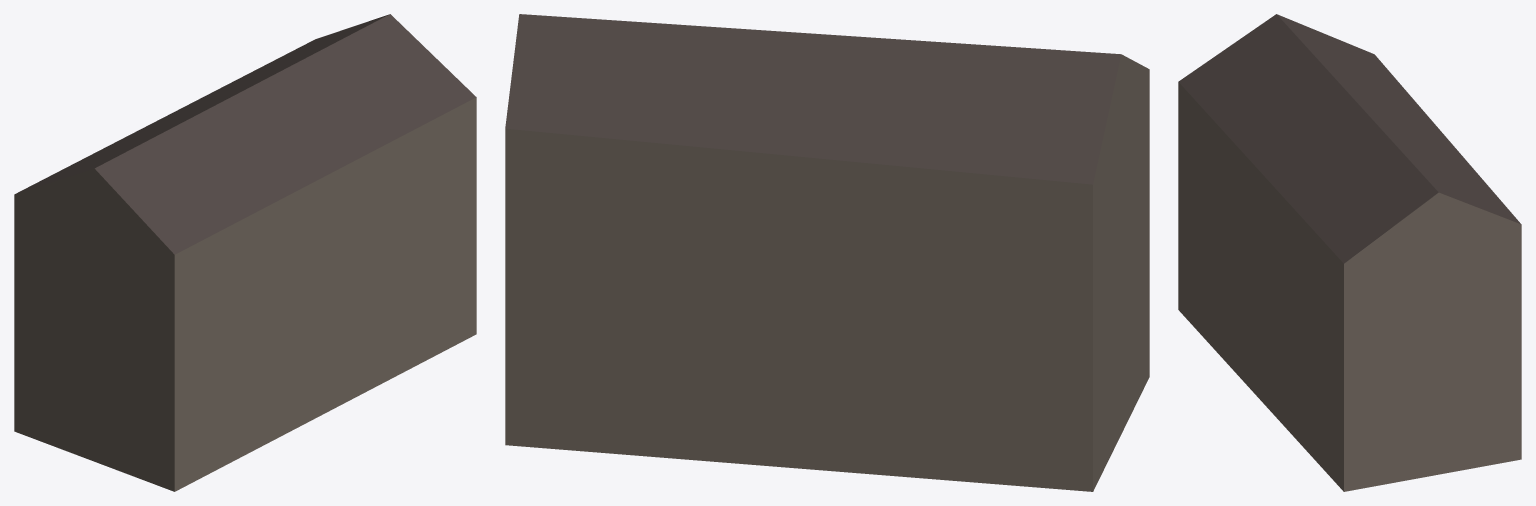
3 views of the same model, side by side, from view 1: azimuth 30°, elevation 25°; view 2: azimuth 150°, elevation 25°; view 3: azimuth 270°, elevation 25° (orthographic). The views are drawn at different scales.
Parts seen in each view (by area): view 1: HP-w505643586; view 2: HP-w505643586; view 3: HP-w505643586.
Part boxes in pixels (box(x1,y1,x2,y2)): HP-w505643586: box(14, 14, 476, 491); HP-w505643586: box(505, 14, 1149, 491); HP-w505643586: box(1178, 14, 1521, 491).
Size of the model in its own units: 11.82 by 7.42 by 8.18.
